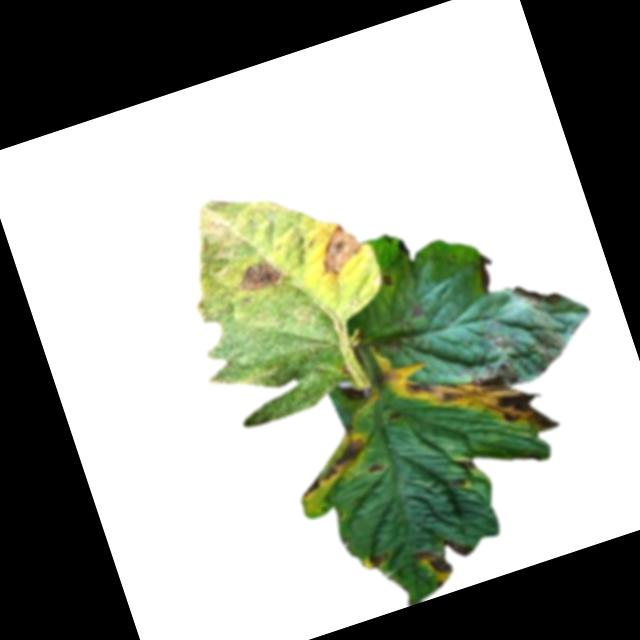Early_blight: (378, 322, 561, 474), (460, 312, 571, 396), (287, 433, 376, 497), (409, 527, 479, 582), (311, 218, 369, 280), (513, 272, 563, 313), (237, 256, 285, 294), (470, 251, 503, 293), (365, 548, 387, 570), (368, 458, 385, 472), (380, 272, 393, 288)
